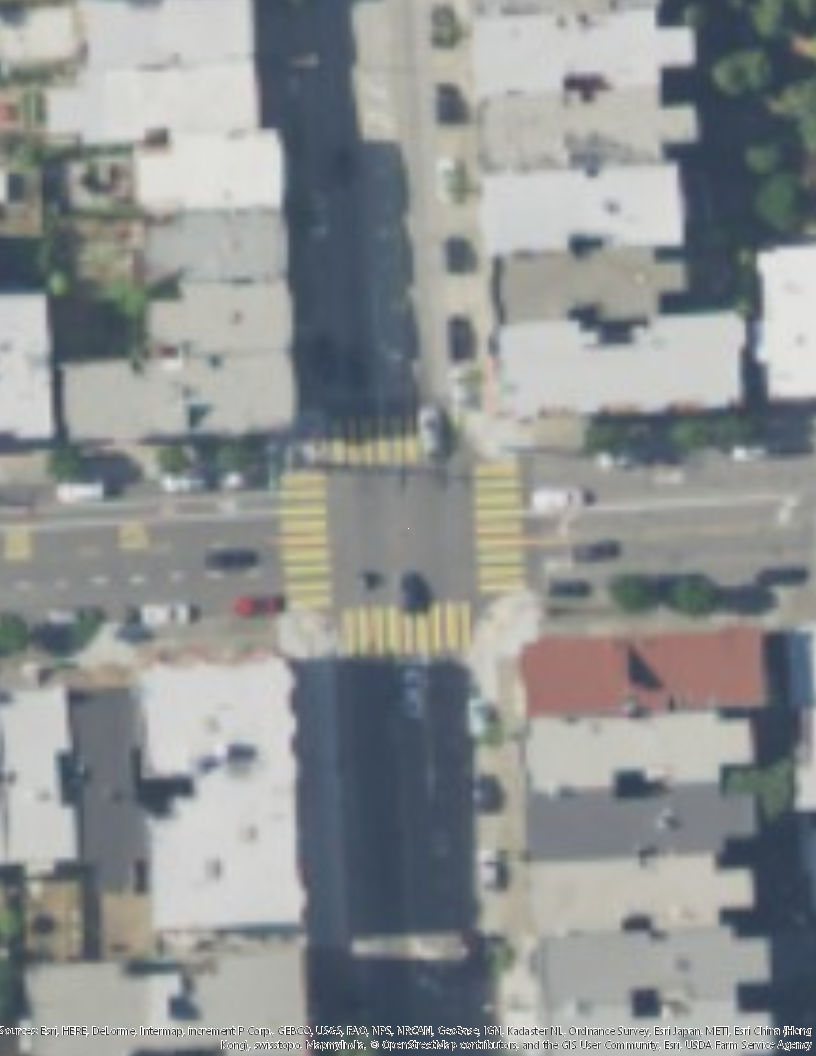zebracross: (275, 465, 338, 608), (468, 454, 531, 593), (338, 598, 479, 658), (319, 415, 424, 467)
